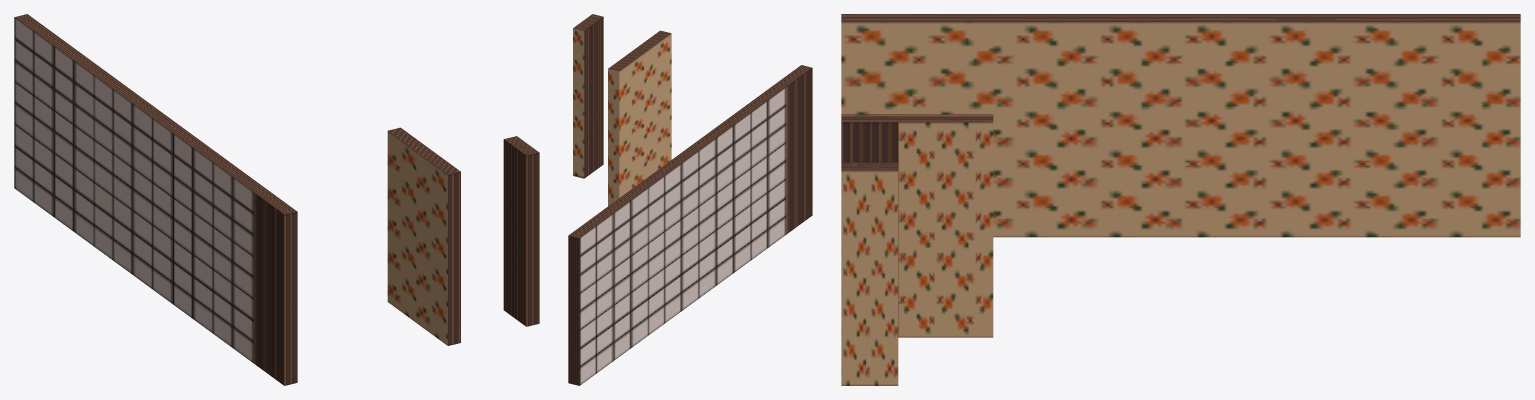
File: Pared_Baño_Habitación.obj
The picture shows the model from 3 angles, left to right: view 1: azimuth 30°, elevation 25°; view 2: azimuth 150°, elevation 25°; view 3: azimuth 270°, elevation 25°; orthographic projection. The views are drawn at different scales.
Visible parts, largest first — view 1: Pared_Baño_Habitación; view 2: Pared_Baño_Habitación; view 3: Pared_Baño_Habitación.
Boxes of the visible parts, x1,y1,x2,y2 form: Pared_Baño_Habitación: (14,14,539,385); Pared_Baño_Habitación: (568,14,812,385); Pared_Baño_Habitación: (841,14,1520,385).
Bounding box in the file's own units: 2.44 × 1.56 × 4.47.
1 material, 1 textured.
